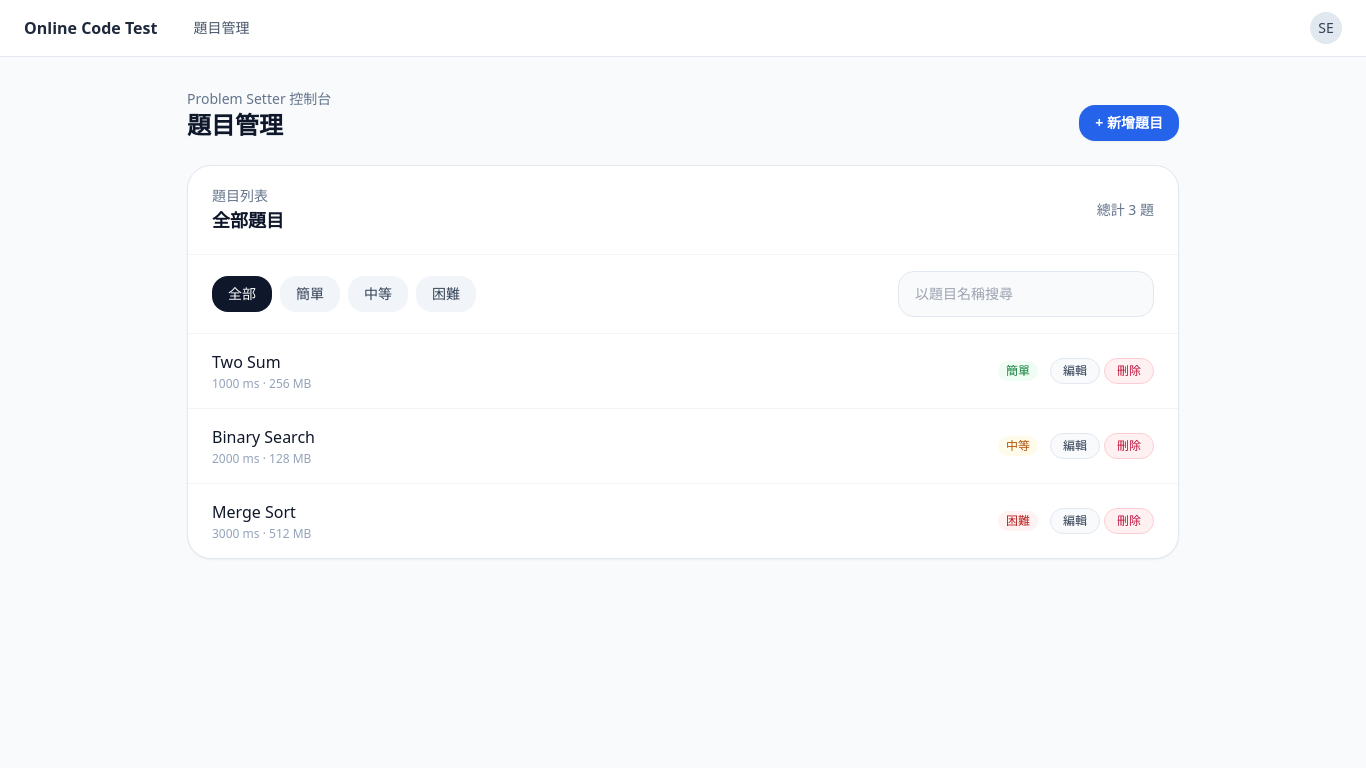
Scenario: ProblemSetterDashboardPage() › search: typing filters problems by title (case-insensitive)
Expected: the text "Two Sum" is shown, [212,351,281,373]
Step 1. Type "binary" into the field with placeholder "以題目名稱搜尋" → (1026, 294), box [898,271,1154,317]
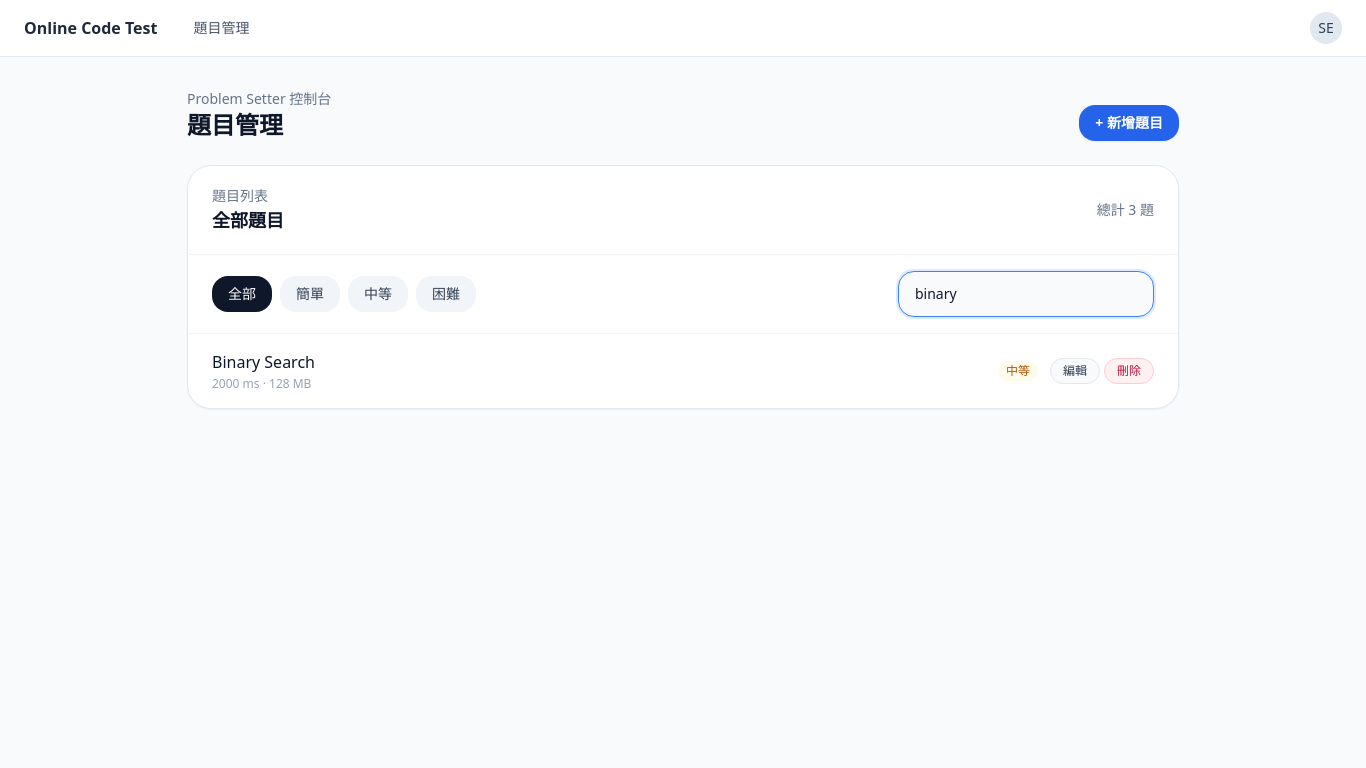
Expected: the text "Binary Search" is shown, [212,350,315,374]
Expected: the text "Two Sum" is gone
Expected: the text "Merge Sort" is gone
